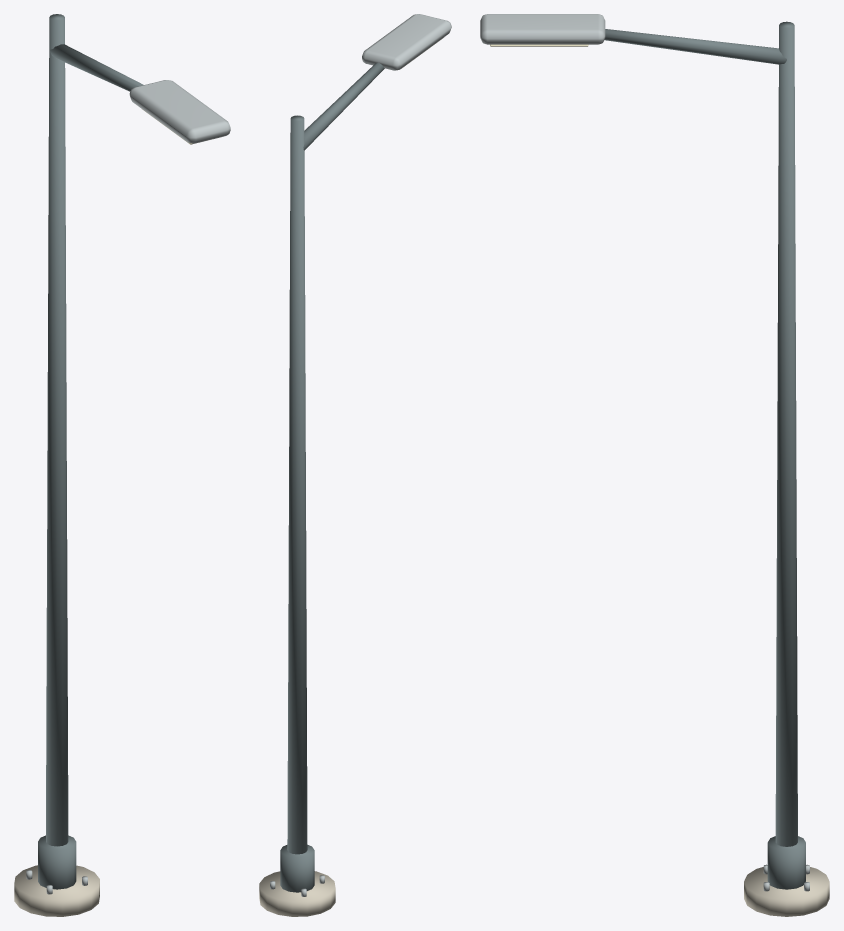
The model's file is StreetLamp.fbx.
3 renders of one model, left to right at view 1: azimuth 30°, elevation 25°; view 2: azimuth 150°, elevation 25°; view 3: azimuth 270°, elevation 25°, orthographic. The views are drawn at different scales.
Parts seen in each view (by area): view 1: Pole base, Anchor bolt, Bolted foundation; view 2: Pole base, Anchor bolt, Bolted foundation; view 3: Pole base, Anchor bolt, Bolted foundation.
Boxes of the visible parts, left/top/right/bottom form: Pole base: left=38, top=14, right=143, bottom=889; Anchor bolt: left=26, top=80, right=230, bottom=894; Bolted foundation: left=14, top=865, right=99, bottom=916; Pole base: left=280, top=62, right=384, bottom=892; Anchor bolt: left=270, top=14, right=451, bottom=896; Bolted foundation: left=259, top=871, right=335, bottom=916; Pole base: left=604, top=21, right=805, bottom=889; Anchor bolt: left=480, top=14, right=809, bottom=891; Bolted foundation: left=744, top=867, right=829, bottom=916.
Size of the model in its own units: 72 by 813 by 293.
